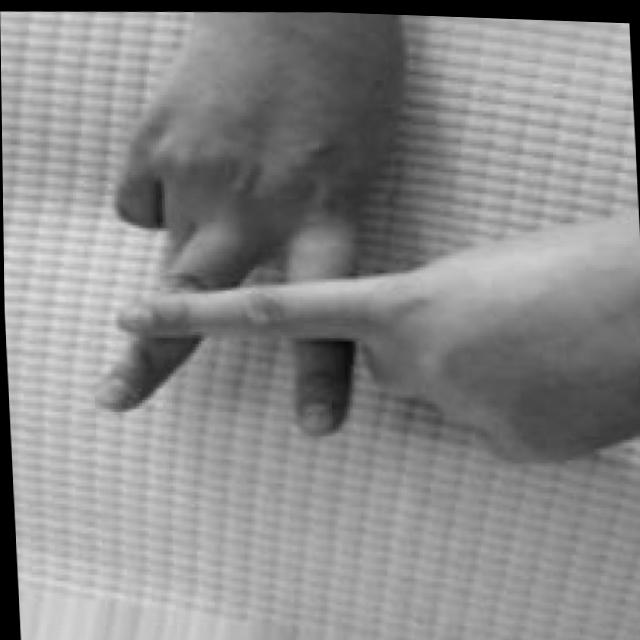A: (73, 27, 640, 482)
